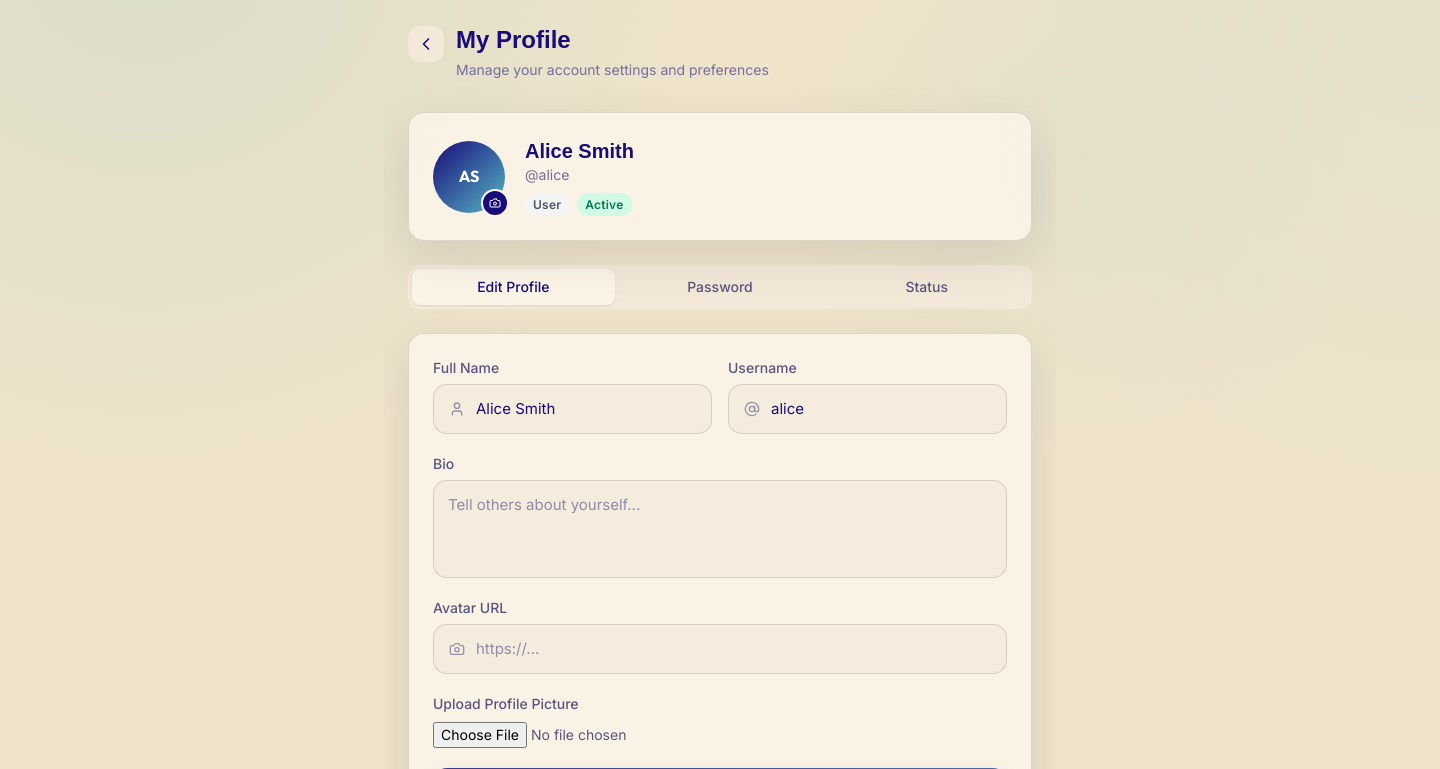
Scenario: ProfilePage › switches between tabs
The image size is (1440, 769).
Click the button "Password".
click(720, 287)  # box [619,269,821,305]
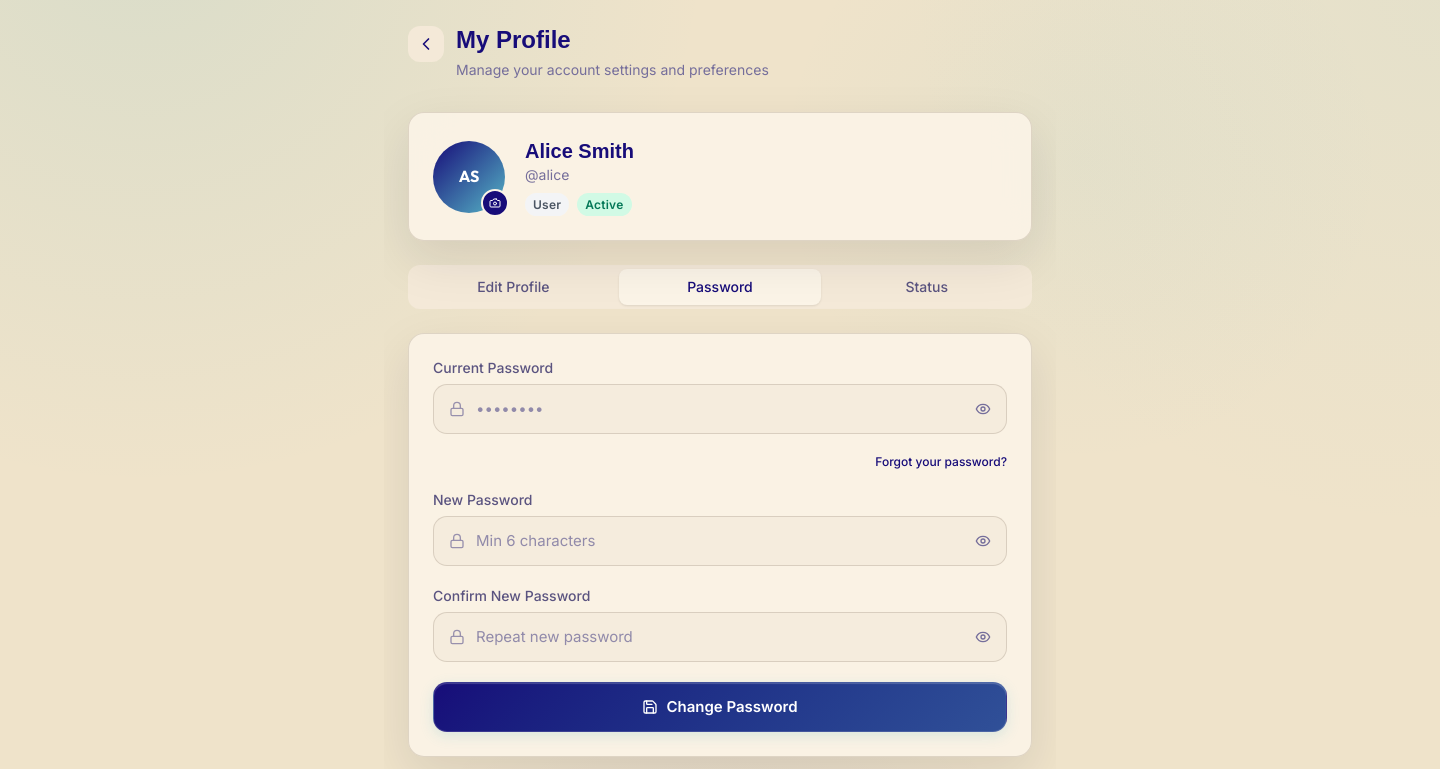
Result: the password field labelled "Current Password" is shown at [433,384,1007,434]
Click the button "Status".
click(927, 287)  # box [825,269,1028,305]
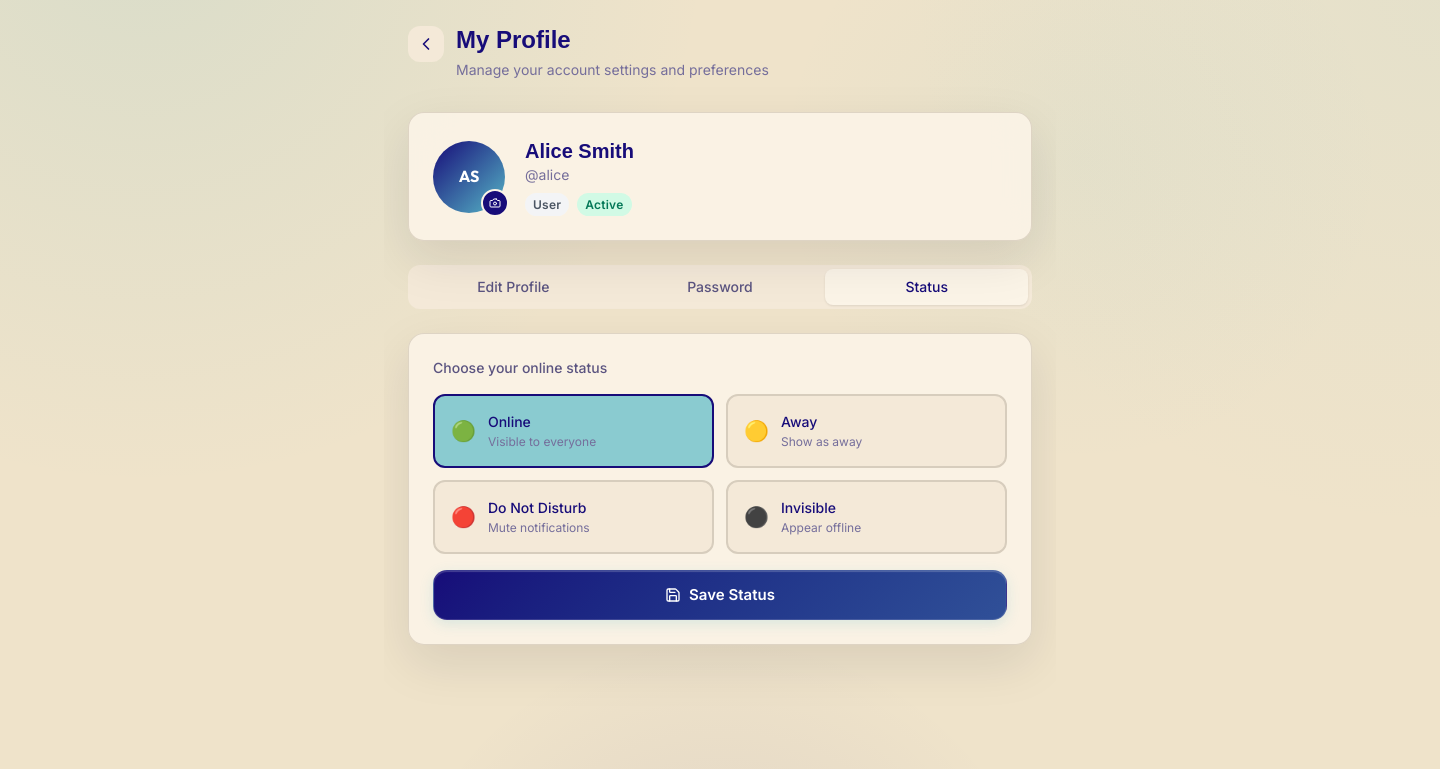
Result: the text "Choose your online status" is shown at [433,359,607,376]
